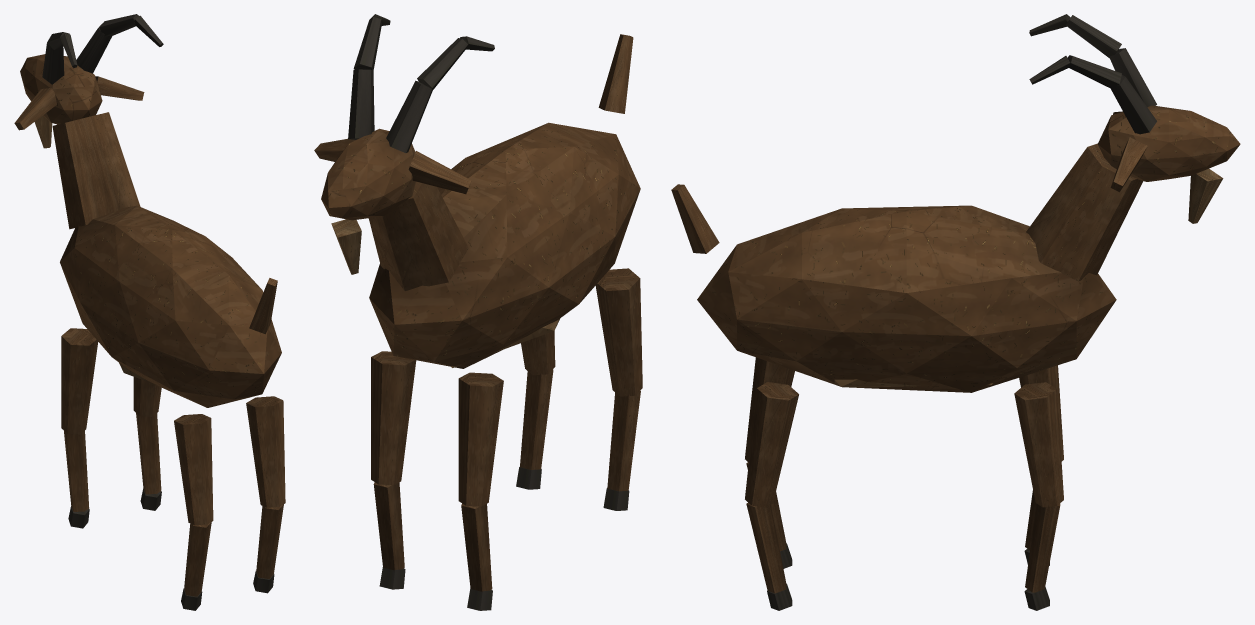
Rendered from animale_capra.glb.
3 views of the same model, side by side, from view 1: azimuth 30°, elevation 25°; view 2: azimuth 150°, elevation 25°; view 3: azimuth 270°, elevation 25° (orthographic). The views are drawn at different scales.
Visible parts, largest first — view 1: animale_capra; view 2: animale_capra; view 3: animale_capra.
Part boxes in pixels (bbox=[...]): animale_capra: bbox=[14, 14, 285, 610]; animale_capra: bbox=[314, 14, 642, 610]; animale_capra: bbox=[671, 14, 1240, 610].
Size of the model in its own units: 0.3581 by 1.28 by 1.19.
3 materials, 3 textured.
